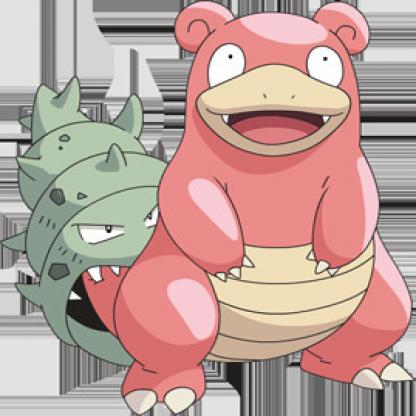Slowbro: (15, 11, 415, 413)
